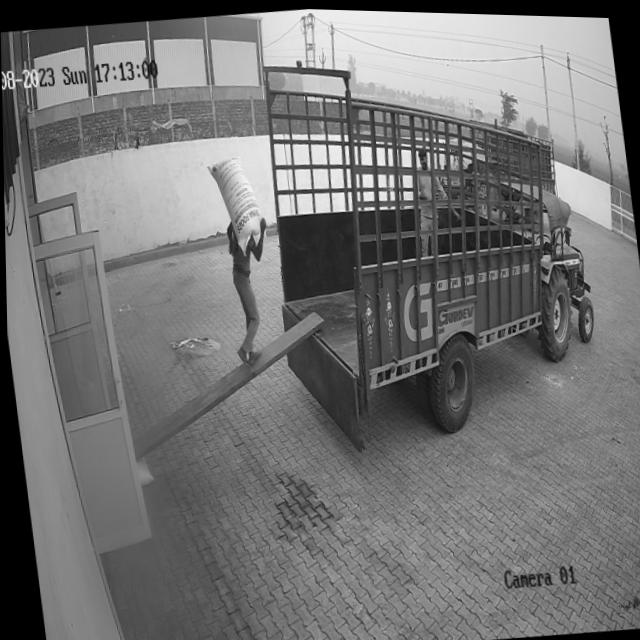sack: (205, 152, 264, 257)
